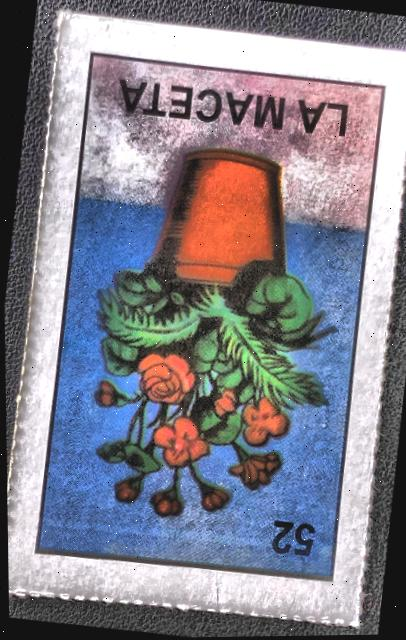La Maceta: (0, 18, 406, 618)
